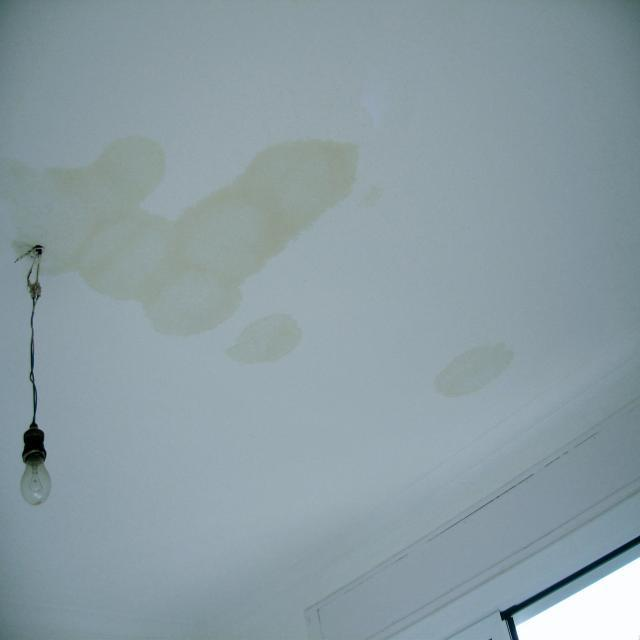leak: (3, 124, 365, 334), (428, 343, 524, 401), (226, 313, 302, 369), (358, 185, 379, 212)
